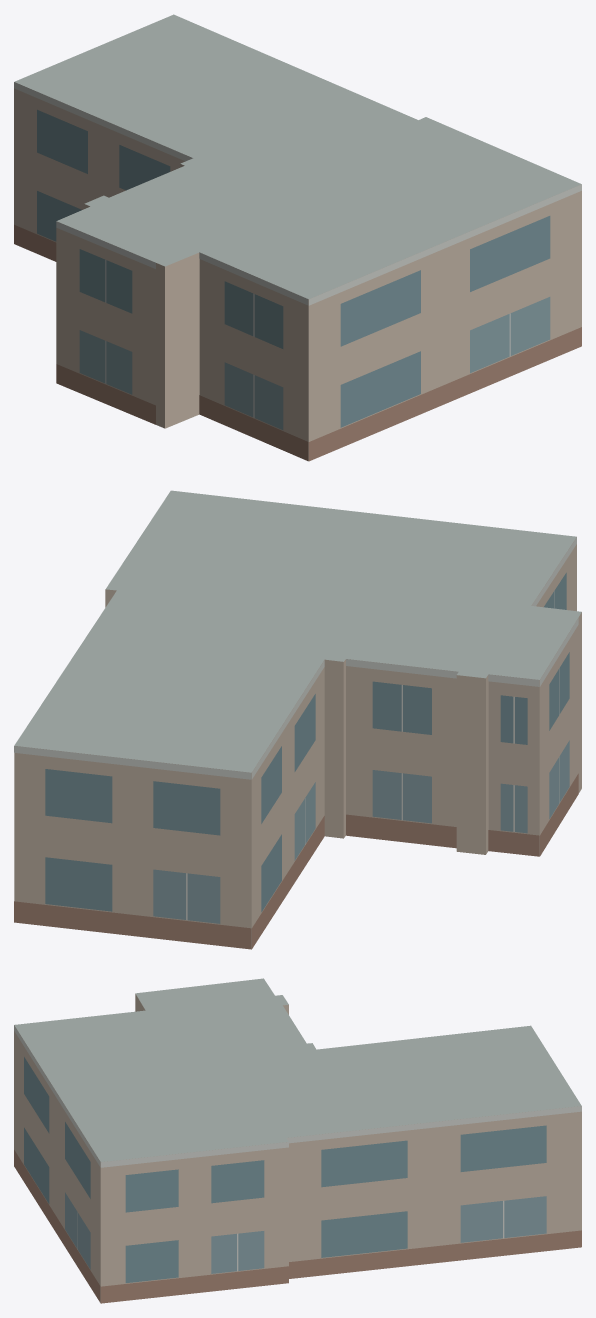
File: survey-upis-32562437.glb
3 views of the same model, one above another, from view 1: azimuth 30°, elevation 25°; view 2: azimuth 150°, elevation 25°; view 3: azimuth 270°, elevation 25° (orthographic). The views are drawn at different scales.
Visible parts, largest first — view 1: survey-upis-32562437.tmp; view 2: survey-upis-32562437.tmp; view 3: survey-upis-32562437.tmp.
Part boxes in pixels (x1,y1,x2,y2): survey-upis-32562437.tmp: [14, 14, 581, 461]; survey-upis-32562437.tmp: [14, 490, 581, 949]; survey-upis-32562437.tmp: [14, 978, 581, 1303].
Bounding box in the file's own units: 17.02 × 6.1 × 22.22.
